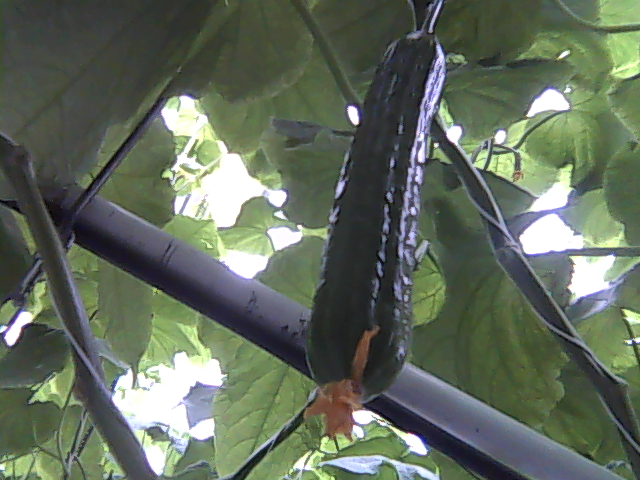concombre: (301, 15, 469, 446)
